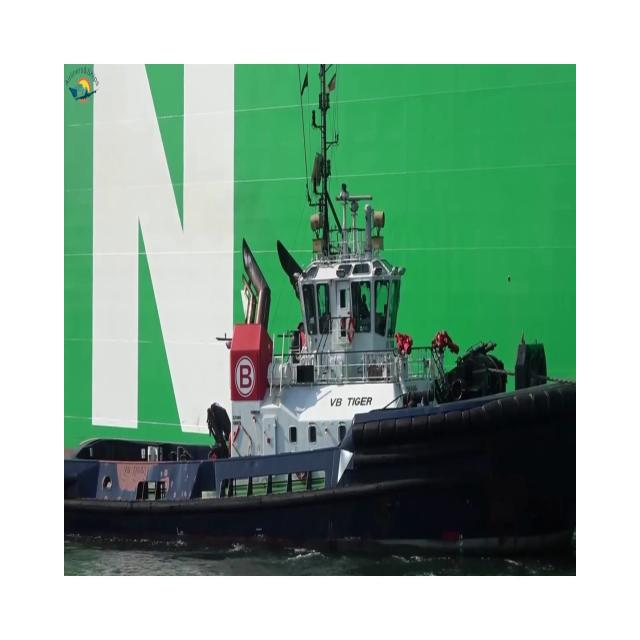OCR: (79, 68, 255, 462)
